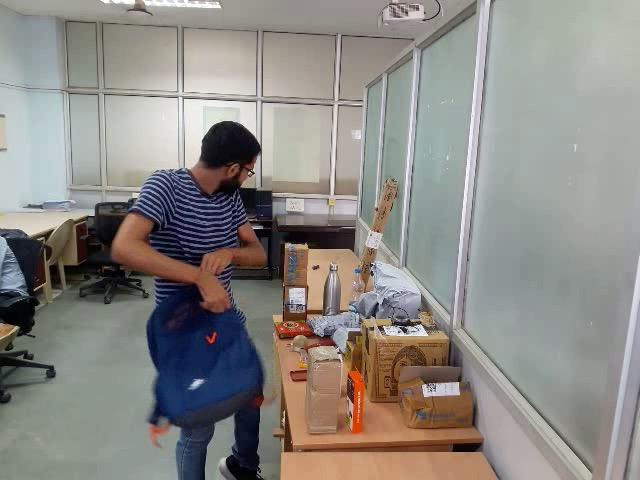shoplifting: (99, 240, 333, 410)
